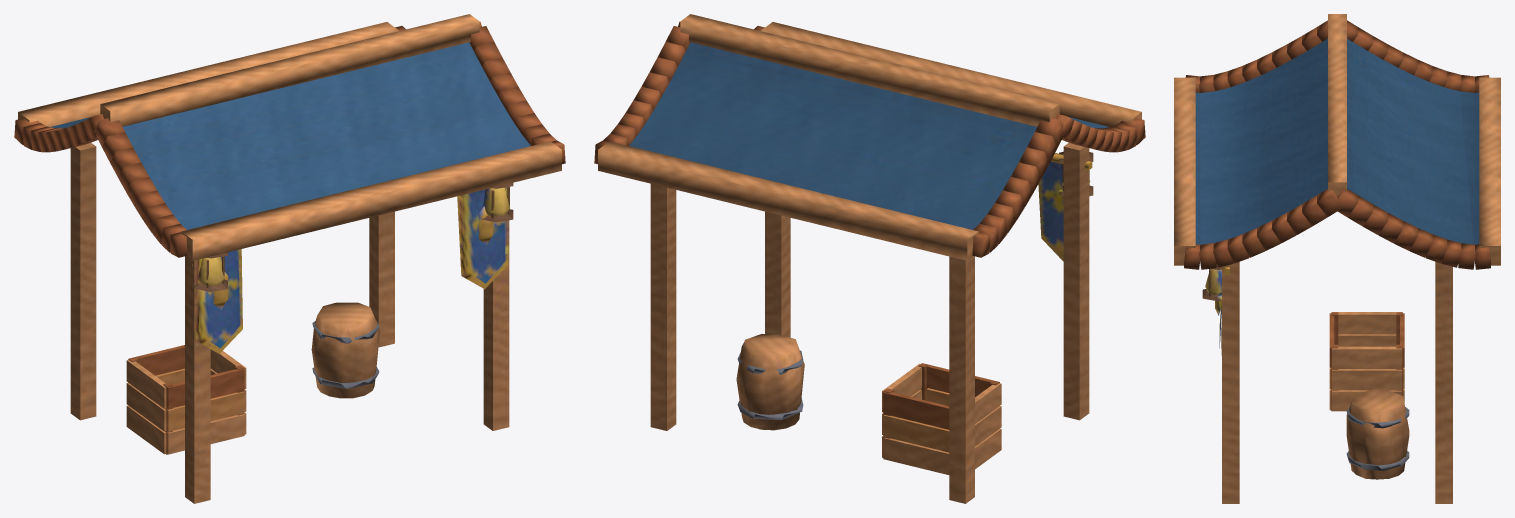
The model's file is race_pit_tent.glb.
The picture shows the model from 3 angles, left to right: view 1: azimuth 30°, elevation 25°; view 2: azimuth 150°, elevation 25°; view 3: azimuth 270°, elevation 25°; orthographic projection. The views are drawn at different scales.
Visible parts, largest first — view 1: Body; view 2: Body; view 3: Body.
Part boxes in pixels (<box>): Body: <box>14,14,565,503</box>; Body: <box>594,14,1145,503</box>; Body: <box>1174,14,1500,503</box>.
Size of the model in its own units: 3.09 by 2.74 by 2.42.
1 material, 1 textured.
